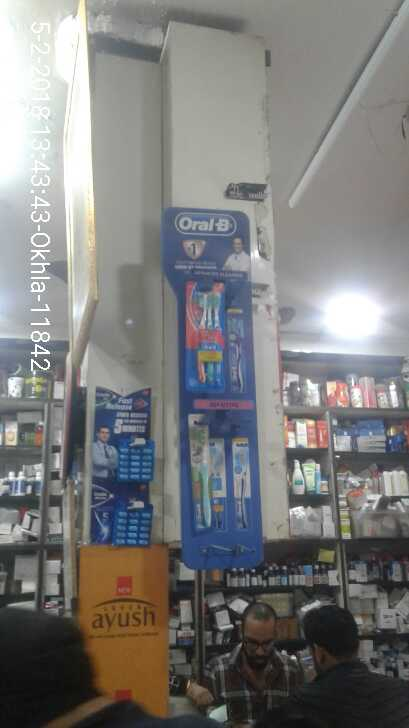oralb: (186, 284, 231, 392)
